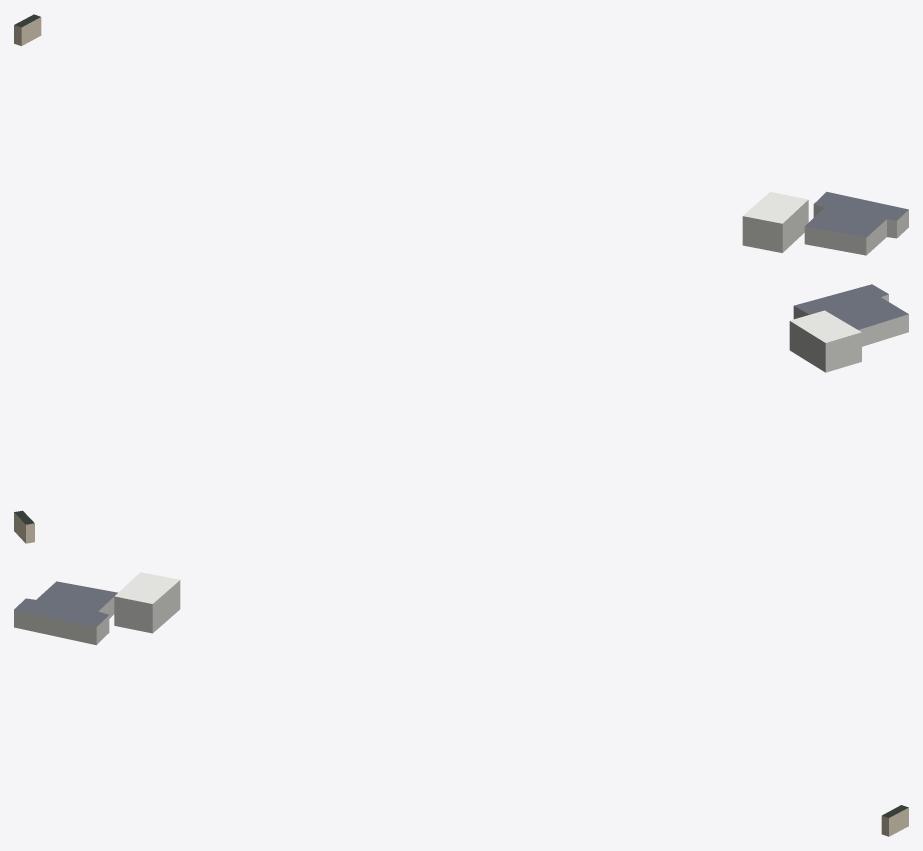
3 views of the same model, one above another, from view 1: azimuth 90°, elevation 25°; view 2: azimuth 150°, elevation 25°; view 3: azimuth 270°, elevation 25° (orthographic).
Parts seen in each view (by area): view 1: tuile; view 2: tuile; view 3: tuile.
Part boxes in pixels (x1,y1,x2,y2): tuile: (14,14,908,255); tuile: (14,284,908,543); tuile: (14,572,908,836).
Size of the model in its own units: 128 by 9.6 by 210.
